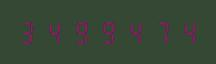four: (43, 20, 68, 44), (121, 20, 146, 44), (173, 20, 198, 44)
nine: (69, 20, 94, 44), (95, 20, 120, 44)
seven: (147, 20, 172, 44)
three: (17, 20, 42, 44)
